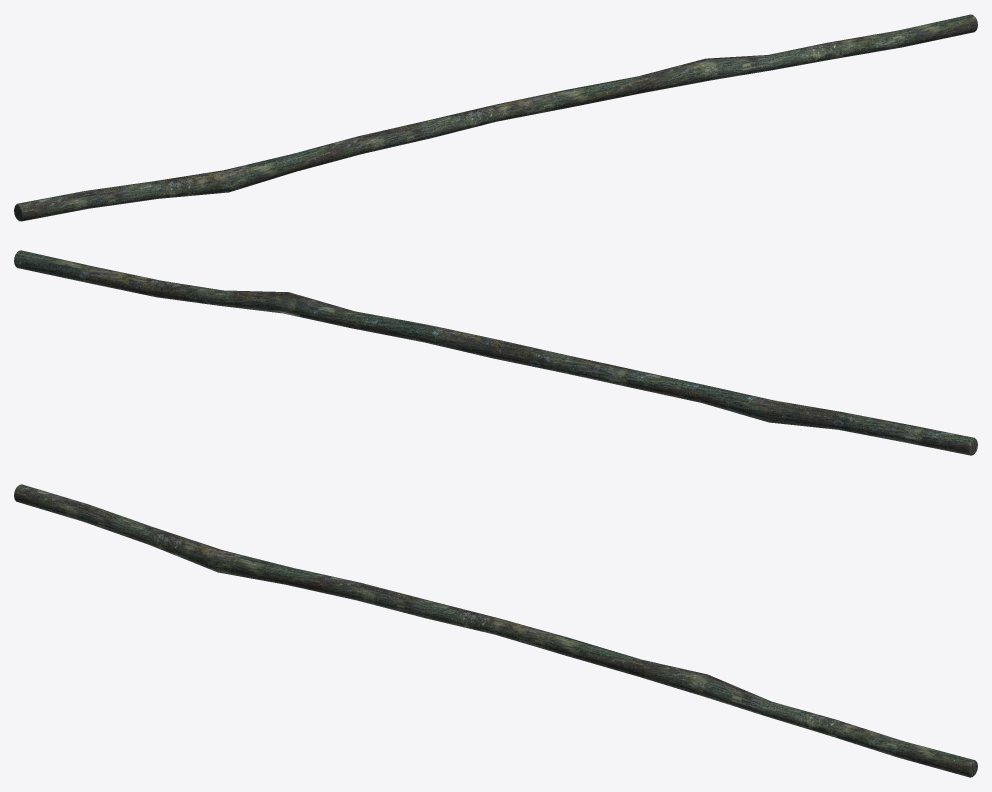
File: FenceHorizontal_1.fbx
The picture shows the model from 3 angles, top to bottom: view 1: azimuth 30°, elevation 25°; view 2: azimuth 150°, elevation 25°; view 3: azimuth 330°, elevation 25°; orthographic projection.
Visible parts, largest first — view 1: FenceHorizontal; view 2: FenceHorizontal; view 3: FenceHorizontal.
Part boxes in pixels (<box>): FenceHorizontal: <box>14,14,977,221</box>; FenceHorizontal: <box>14,250,977,455</box>; FenceHorizontal: <box>14,484,977,777</box>.
Bounding box in the file's own units: 328 × 19.86 × 9.06.
